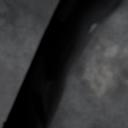broken_brick: (52, 0, 127, 127), (0, 0, 56, 121)
crack: (0, 0, 125, 127)
